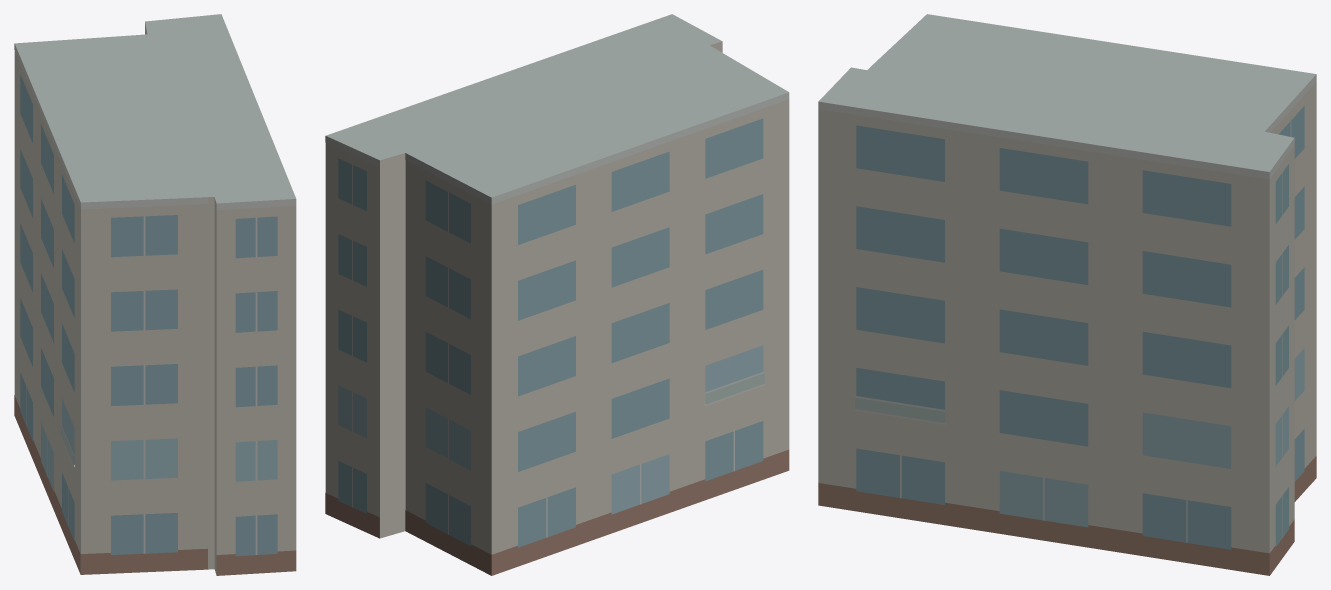
Rendered from survey-upis-32889800.glb.
The picture shows the model from 3 angles, left to right: view 1: azimuth 30°, elevation 25°; view 2: azimuth 150°, elevation 25°; view 3: azimuth 270°, elevation 25°; orthographic projection. The views are drawn at different scales.
Visible parts, largest first — view 1: survey-upis-32889800.tmp; view 2: survey-upis-32889800.tmp; view 3: survey-upis-32889800.tmp.
Part boxes in pixels (x1=…): survey-upis-32889800.tmp: x1=14, y1=14, x2=296, y2=575; survey-upis-32889800.tmp: x1=325, y1=14, x2=789, y2=575; survey-upis-32889800.tmp: x1=818, y1=14, x2=1316, y2=575.
Size of the model in its own units: 11.26 by 13.4 by 15.
